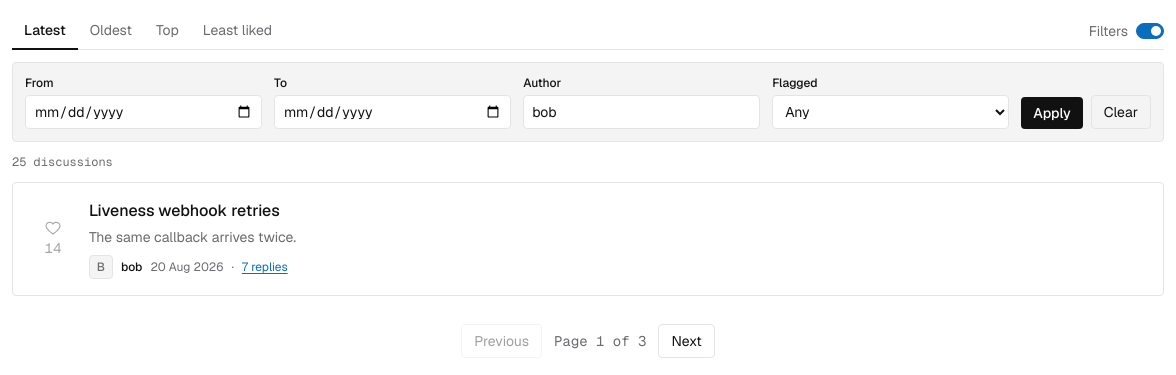
Scenario: PostsContainer › turning the filter switch off removes the filters as well as the panel
The image size is (1176, 375).
Click the switch labelled "Filters" at (1126, 31), box top-left (1089, 13), bottom-right (1164, 49)
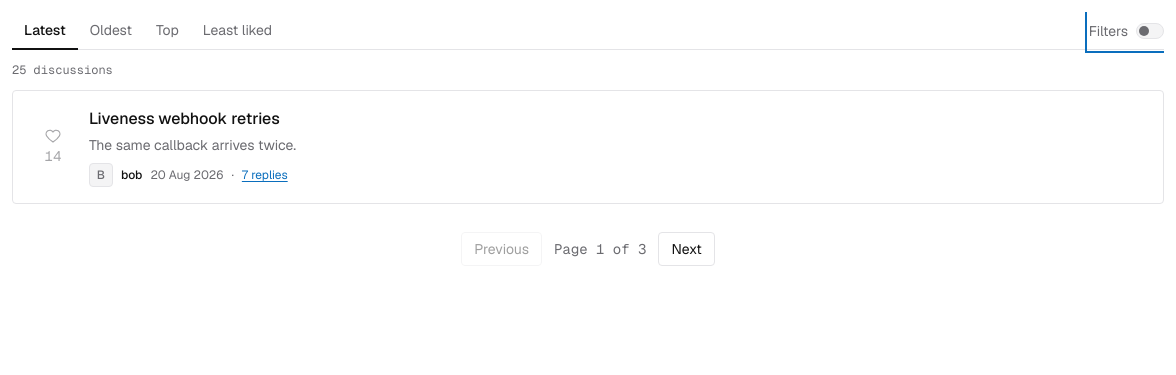
expect the label labelled "Author" is gone: met
